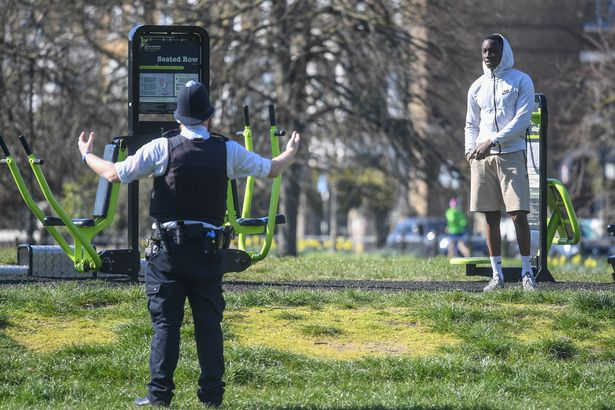Good: (77, 34, 534, 410)
